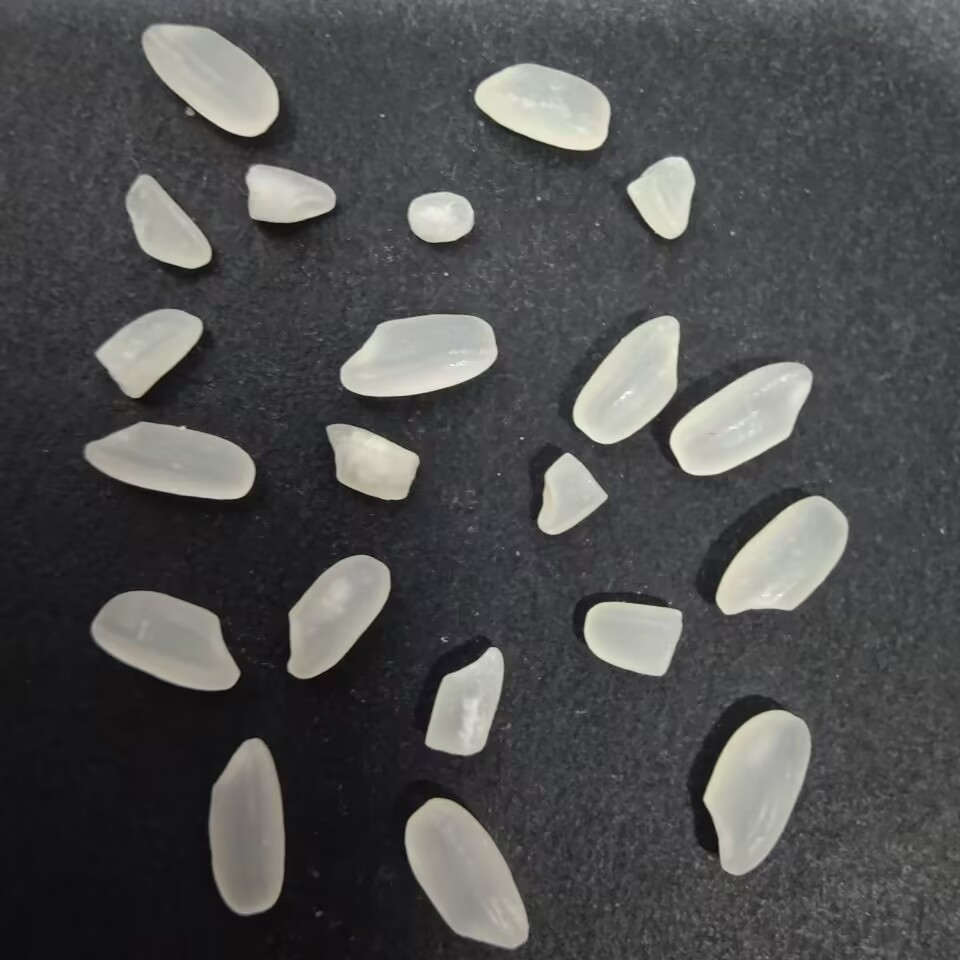broken: (89, 306, 209, 403), (121, 168, 216, 278), (580, 596, 687, 684), (318, 416, 420, 505), (424, 646, 505, 757), (618, 151, 705, 243), (528, 446, 611, 541), (238, 159, 341, 226), (402, 186, 487, 250)
rice: (695, 703, 818, 880), (401, 795, 538, 952), (711, 492, 854, 622), (667, 359, 819, 480), (138, 16, 283, 138), (561, 310, 685, 449), (85, 585, 244, 693), (202, 735, 290, 920), (81, 416, 258, 507), (335, 307, 503, 401), (282, 551, 393, 682), (471, 60, 615, 157)
